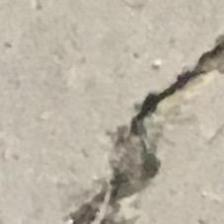Crack: (52, 25, 223, 224)
